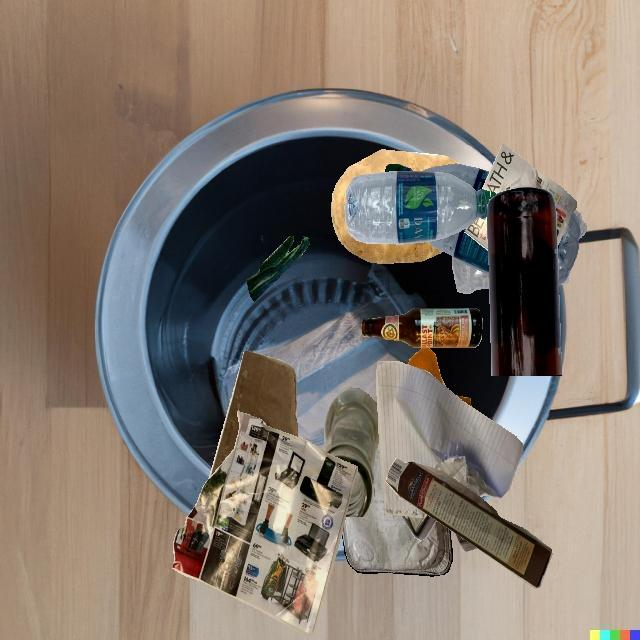biowaste: (331, 149, 463, 264), (247, 236, 309, 302), (407, 348, 446, 387)
cardboard: (386, 458, 552, 589), (209, 350, 299, 479), (401, 515, 436, 541), (455, 533, 477, 552)
glass: (487, 187, 562, 376), (325, 387, 379, 517), (361, 308, 482, 348)
metal: (342, 440, 452, 576)
paper: (172, 411, 358, 636), (376, 361, 523, 518), (482, 144, 577, 248)
plastic: (344, 171, 495, 244), (429, 189, 567, 242), (489, 229, 587, 287), (429, 237, 489, 274), (421, 164, 489, 191), (557, 212, 580, 286), (452, 256, 489, 294), (410, 169, 469, 189), (385, 164, 413, 172)
